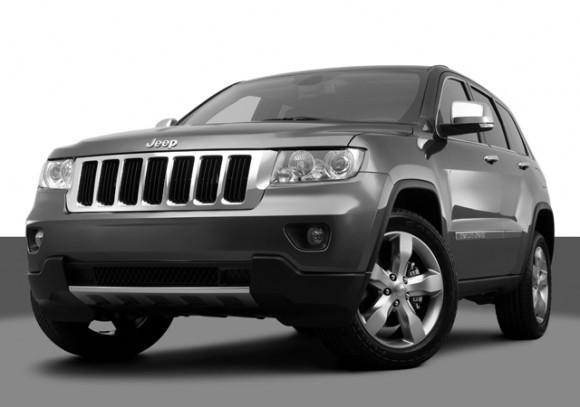car: (25, 67, 557, 370)
